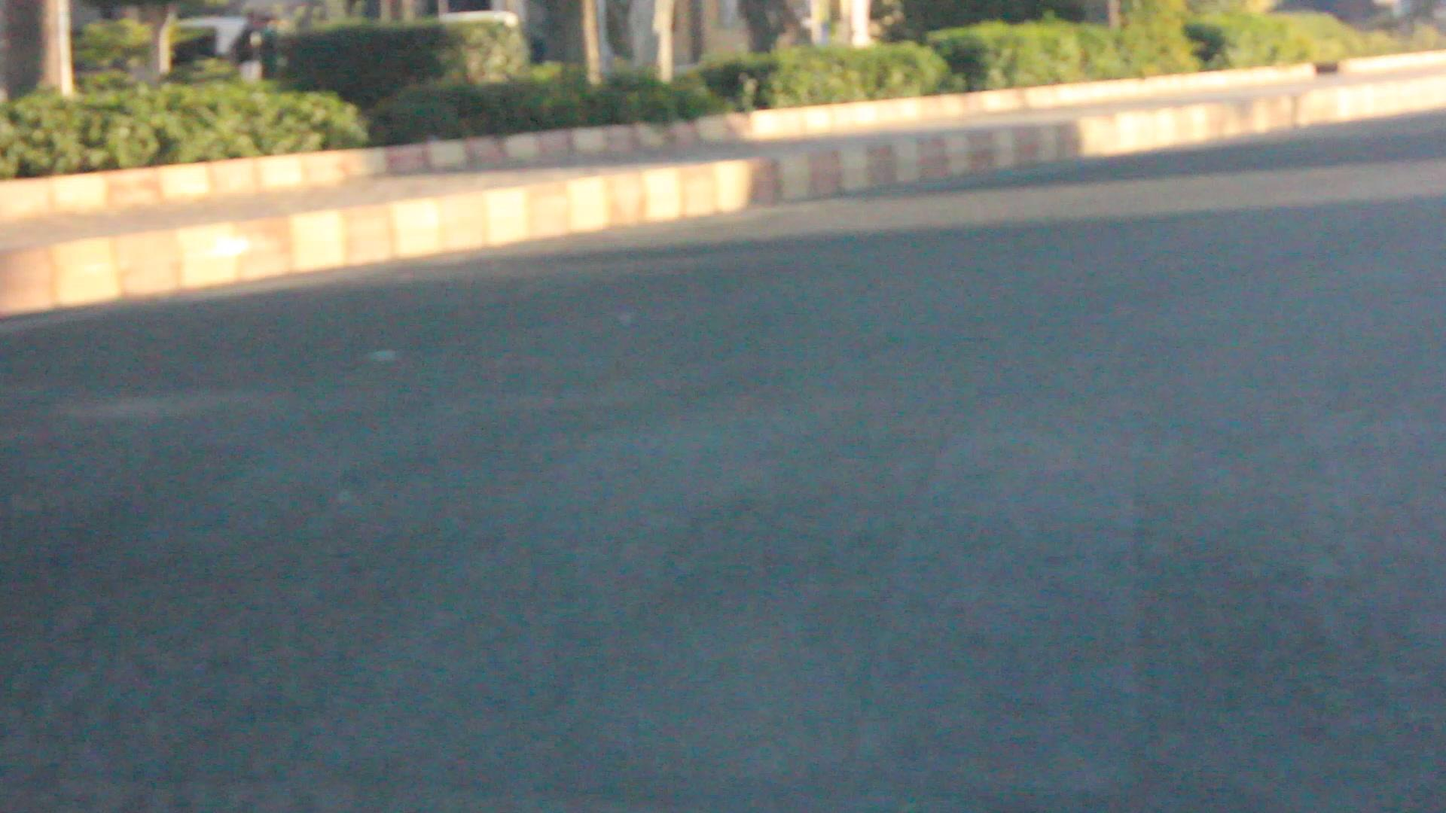Bump: (6, 384, 1446, 762)
